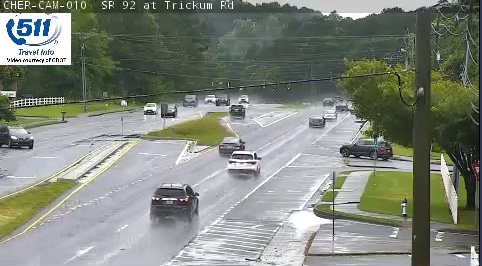car: (151, 184, 196, 216), (227, 151, 260, 173), (219, 137, 245, 156), (229, 104, 244, 117), (309, 115, 324, 127)
